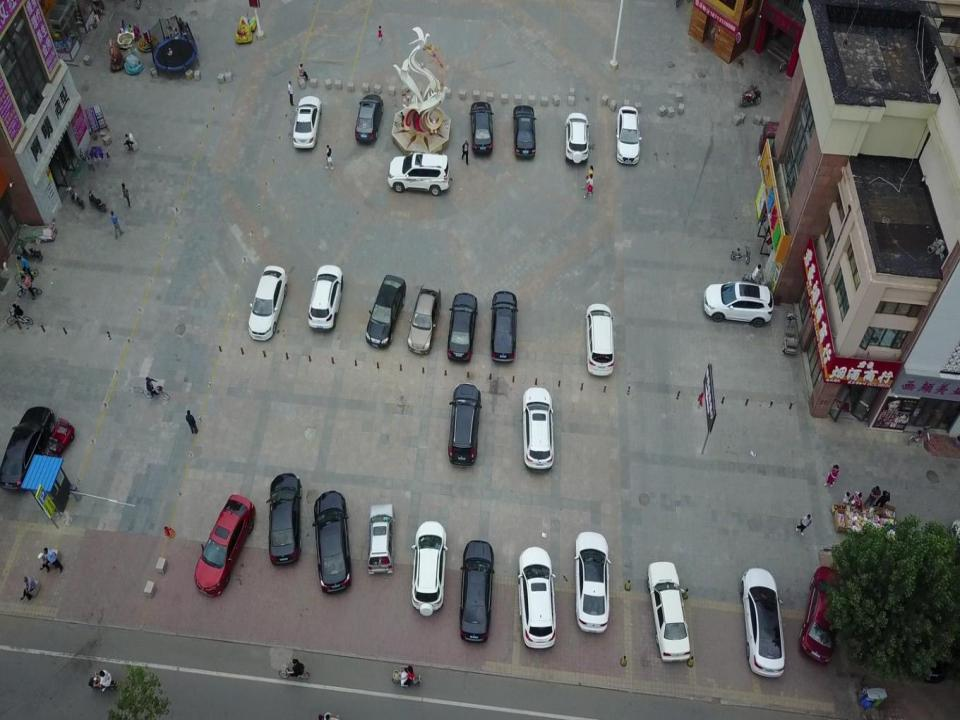car: (194, 493, 256, 597), (740, 569, 785, 676), (798, 566, 847, 662), (0, 405, 54, 489), (648, 561, 690, 662), (312, 489, 352, 593), (518, 546, 556, 646), (459, 539, 495, 643), (575, 531, 611, 632), (412, 520, 448, 616), (266, 472, 302, 564), (248, 264, 288, 340), (704, 282, 773, 326), (366, 273, 406, 347), (449, 384, 483, 467), (388, 152, 451, 195), (522, 386, 554, 470), (406, 283, 442, 354), (448, 292, 479, 361), (490, 290, 519, 363), (308, 266, 342, 328), (585, 304, 614, 376), (368, 503, 395, 574), (616, 105, 642, 165), (293, 96, 322, 149), (563, 113, 591, 163), (355, 94, 383, 141), (469, 101, 493, 155), (512, 105, 537, 156)
